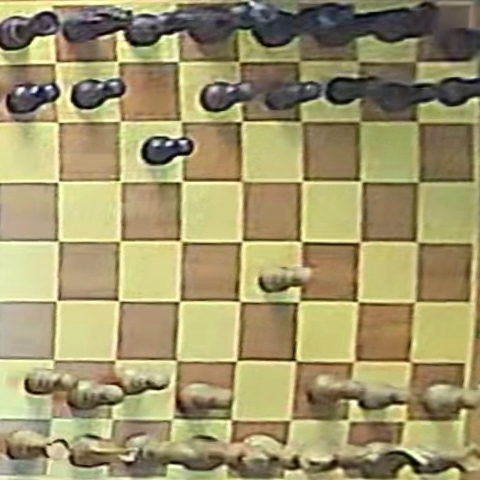black-bishop: (126, 6, 211, 46), (315, 6, 395, 46)
black-king: (251, 0, 355, 48)
black-knight: (62, 5, 132, 45), (375, 2, 438, 46)
black-pawn: (377, 80, 441, 113), (7, 81, 60, 116), (329, 76, 386, 108), (266, 80, 323, 111), (201, 81, 257, 112), (72, 78, 125, 110), (142, 136, 193, 166), (435, 75, 480, 107)
black-queen: (185, 1, 278, 44)
black-rook: (1, 10, 59, 51), (434, 26, 480, 59)
white-bishop: (179, 435, 269, 473), (122, 430, 199, 471), (310, 438, 383, 474)
white-king: (238, 435, 338, 478)
white-knight: (357, 441, 429, 478), (67, 434, 138, 468)
white-pawn: (417, 383, 478, 417), (178, 382, 232, 415), (68, 380, 124, 410), (116, 365, 171, 395), (26, 368, 80, 396), (354, 382, 407, 410), (259, 265, 312, 292), (308, 373, 351, 406)
white-rook: (6, 430, 72, 464), (411, 444, 480, 475)
